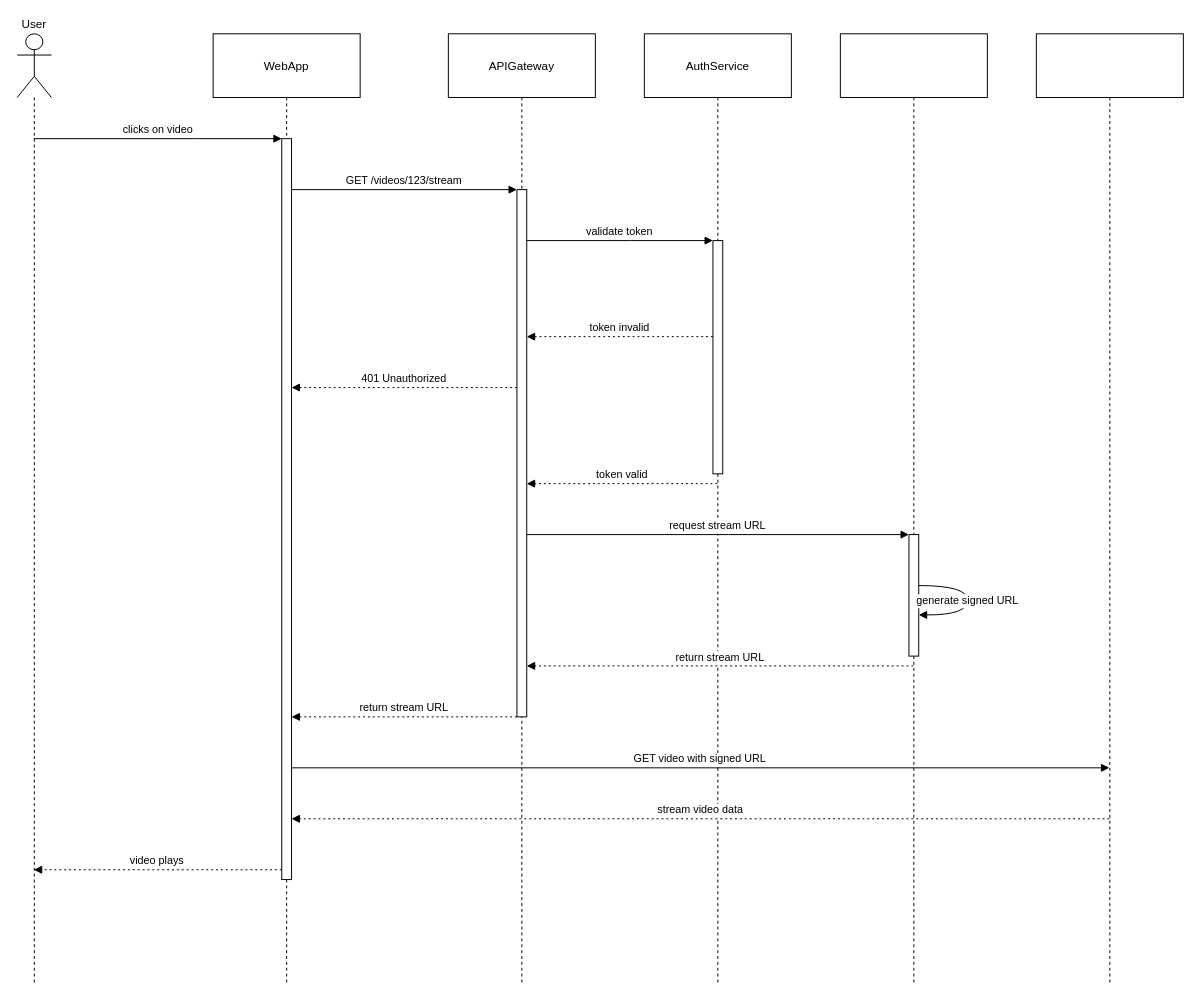
Image size: 1201x1000. Some labels were removed from this diagram. Here are the shapes that lost their labels. From the top down, the box of each, then its label:
(839, 33, 987, 982): StreamingService
(1035, 33, 1183, 982): CDN
